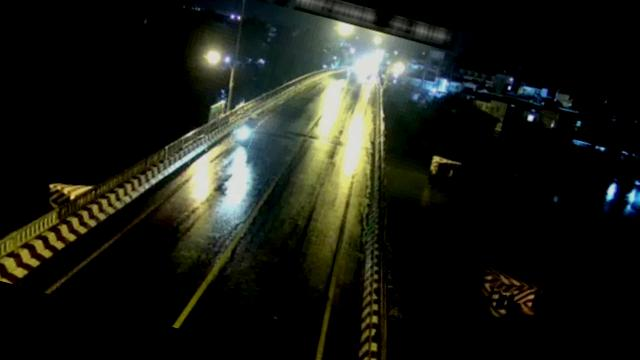Bike: (230, 110, 259, 148)
